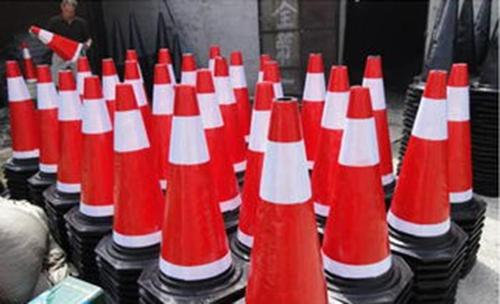cone_barrel: (241, 93, 328, 302), (320, 77, 396, 285), (160, 81, 228, 283), (388, 66, 455, 254), (108, 82, 155, 256), (236, 80, 277, 249), (441, 60, 478, 211), (76, 70, 111, 219), (359, 52, 393, 182), (2, 55, 38, 175), (53, 67, 83, 200), (34, 60, 59, 176), (26, 24, 83, 64)
